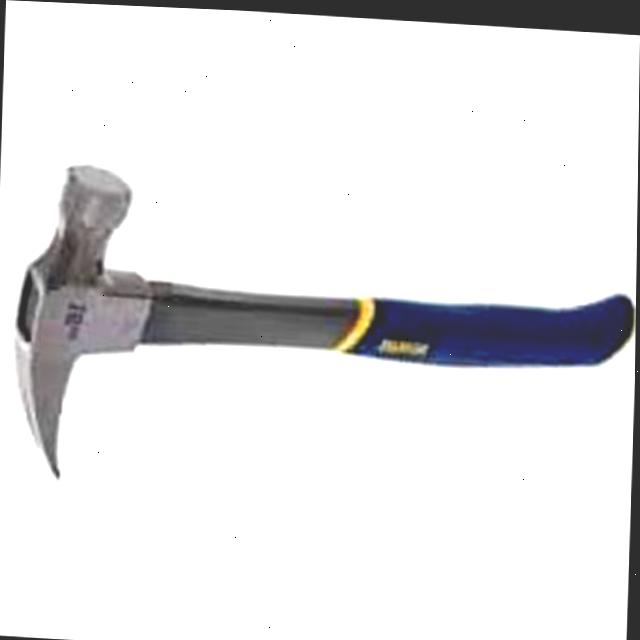hammer: (1, 141, 638, 524)
